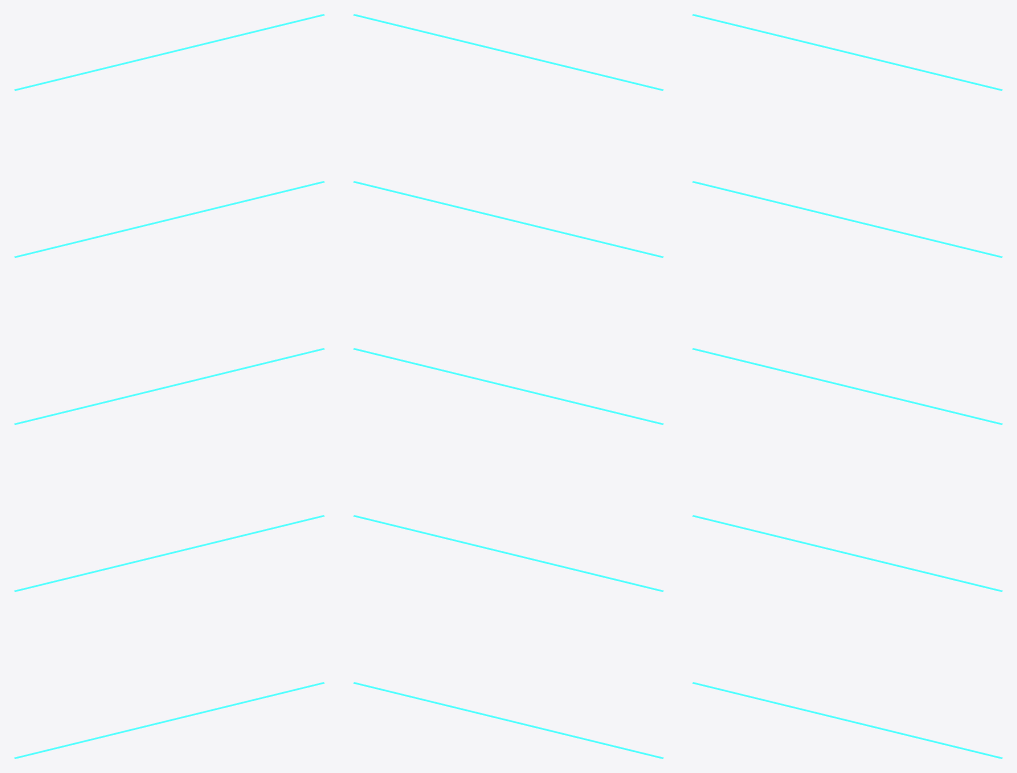
Rendered from v02-02-07-cyan.glb.
3 renders of one model, left to right at view 1: azimuth 30°, elevation 25°; view 2: azimuth 150°, elevation 25°; view 3: azimuth 330°, elevation 25°, orthographic.
Parts seen in each view (by area): view 1: v02-02-07-cyan; view 2: v02-02-07-cyan; view 3: v02-02-07-cyan.
Part boxes in pixels (left/top/right/bottom): v02-02-07-cyan: left=14, top=14, right=324, bottom=758; v02-02-07-cyan: left=353, top=14, right=663, bottom=758; v02-02-07-cyan: left=692, top=14, right=1002, bottom=758.
Size of the model in its own units: 12.4 by 25.62 by 0.08.
